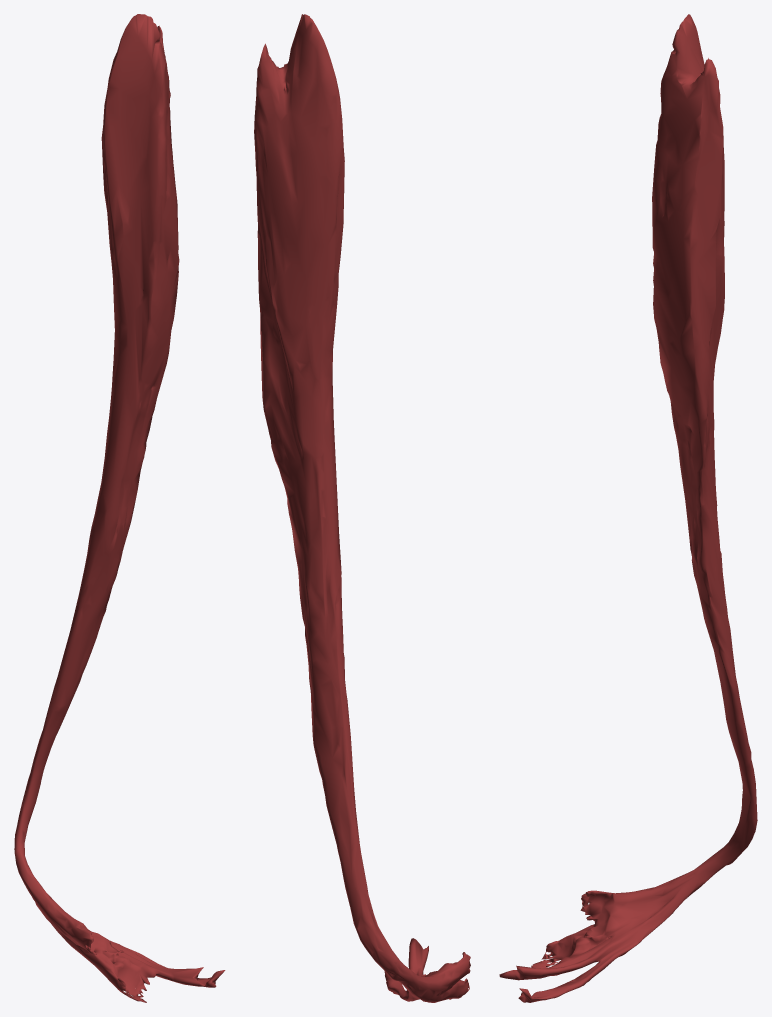
The model's file is tibialis-posterior-muscle-l.glb.
The picture shows the model from 3 angles, left to right: view 1: azimuth 30°, elevation 25°; view 2: azimuth 150°, elevation 25°; view 3: azimuth 270°, elevation 25°; orthographic projection. The views are drawn at different scales.
Parts seen in each view (by area): view 1: Tibialis posterior muscle.l; view 2: Tibialis posterior muscle.l; view 3: Tibialis posterior muscle.l.
Part boxes in pixels (x1,y1,x2,y2): Tibialis posterior muscle.l: (14, 14, 225, 1002); Tibialis posterior muscle.l: (254, 14, 470, 1002); Tibialis posterior muscle.l: (499, 14, 757, 1002).
Size of the model in its own units: 0.0589 by 0.3438 by 0.0812.
